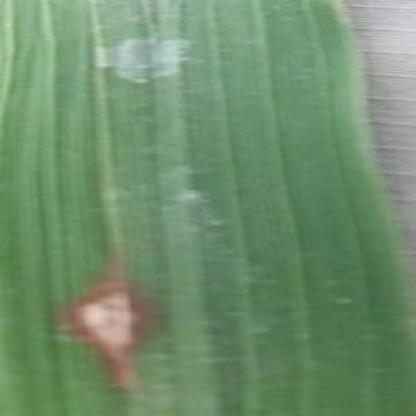Rice blast: (73, 262, 158, 388)
